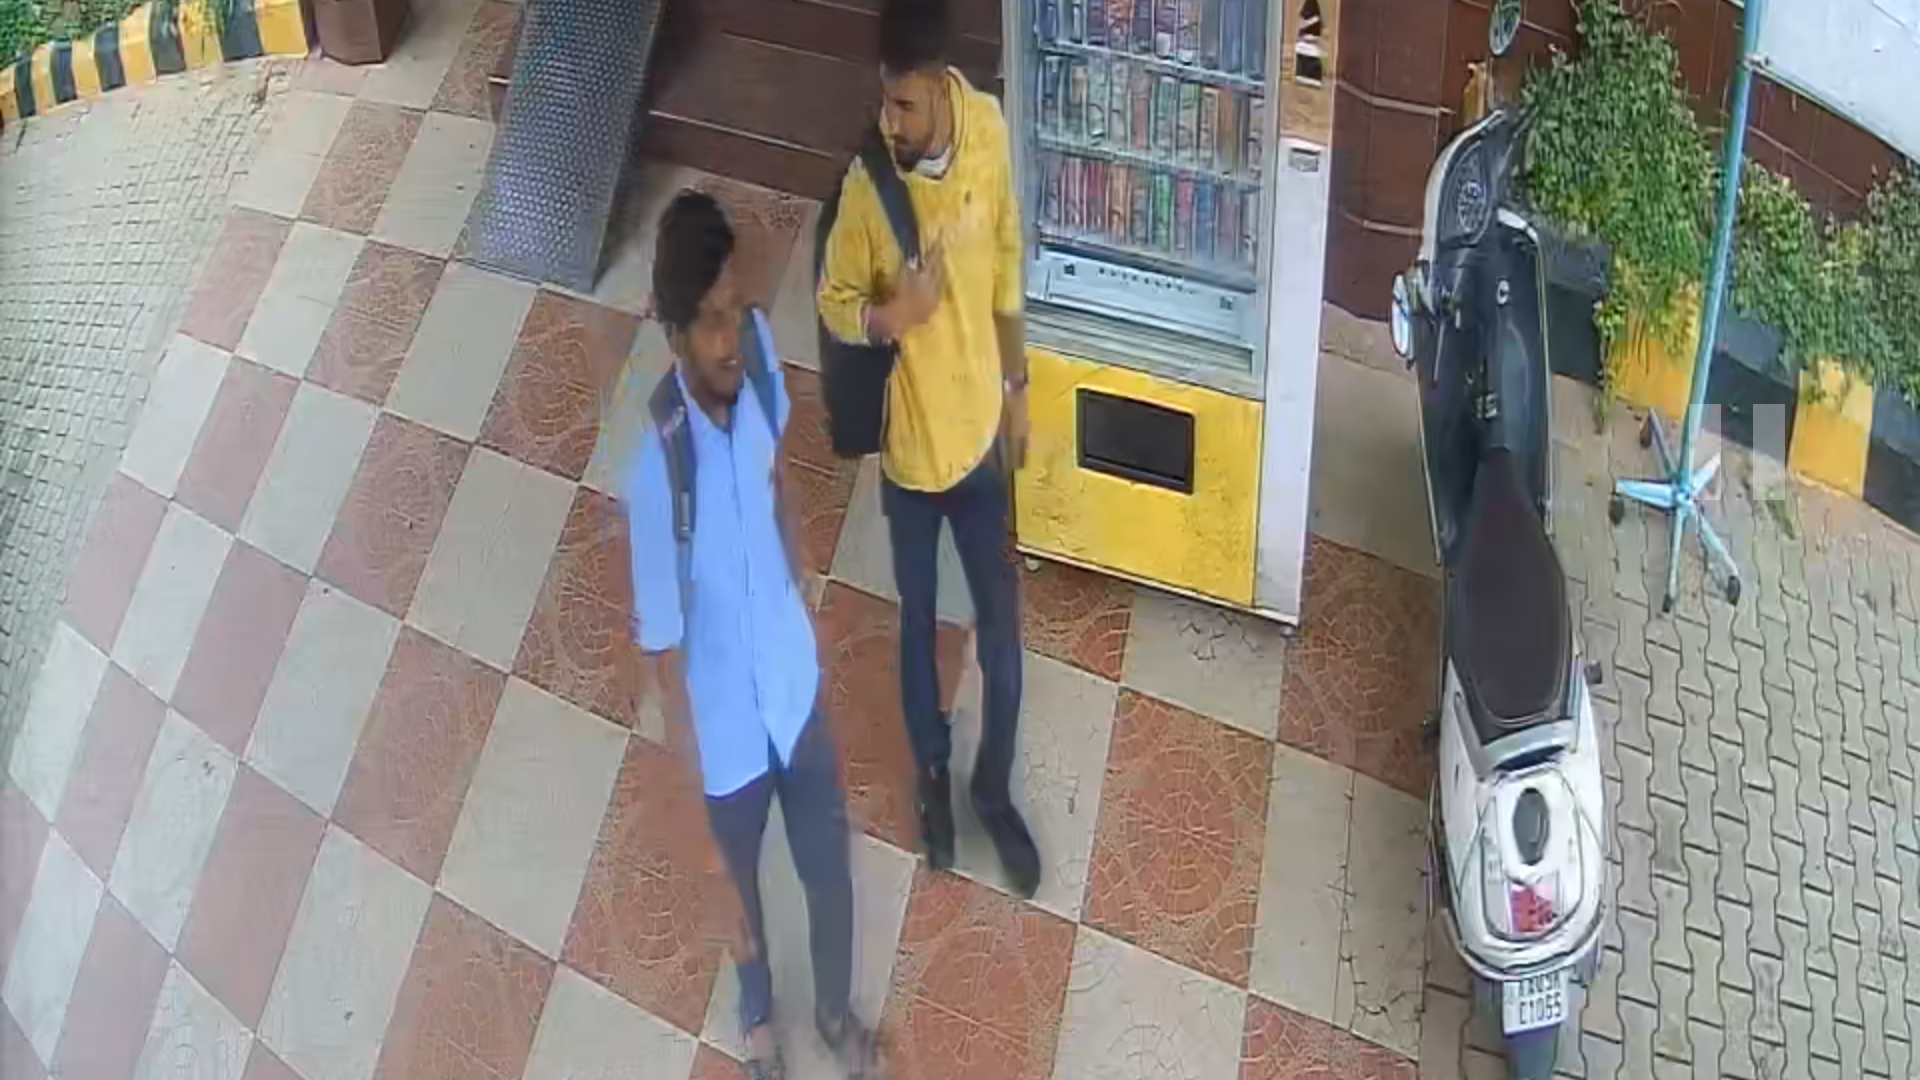intruder: (636, 185, 885, 1080), (843, 1, 1075, 901)
